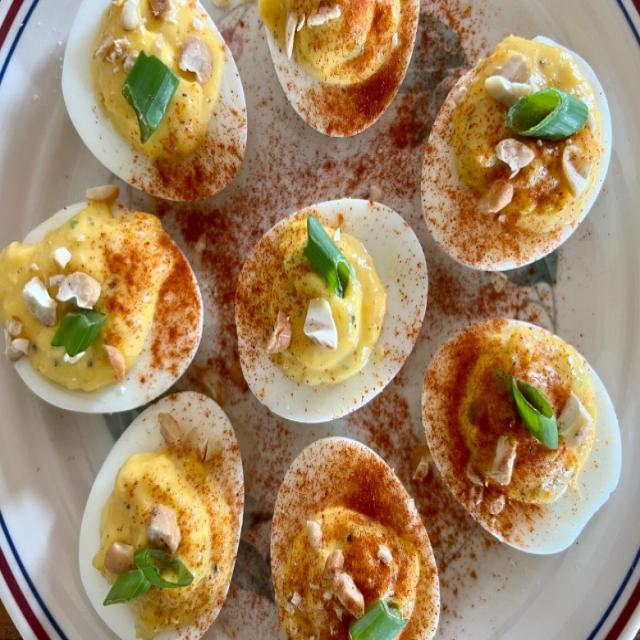EGG: (0, 187, 245, 639), (418, 35, 613, 284), (421, 319, 622, 557), (235, 199, 430, 426), (61, 0, 248, 206), (269, 438, 441, 639), (256, 0, 424, 139)
